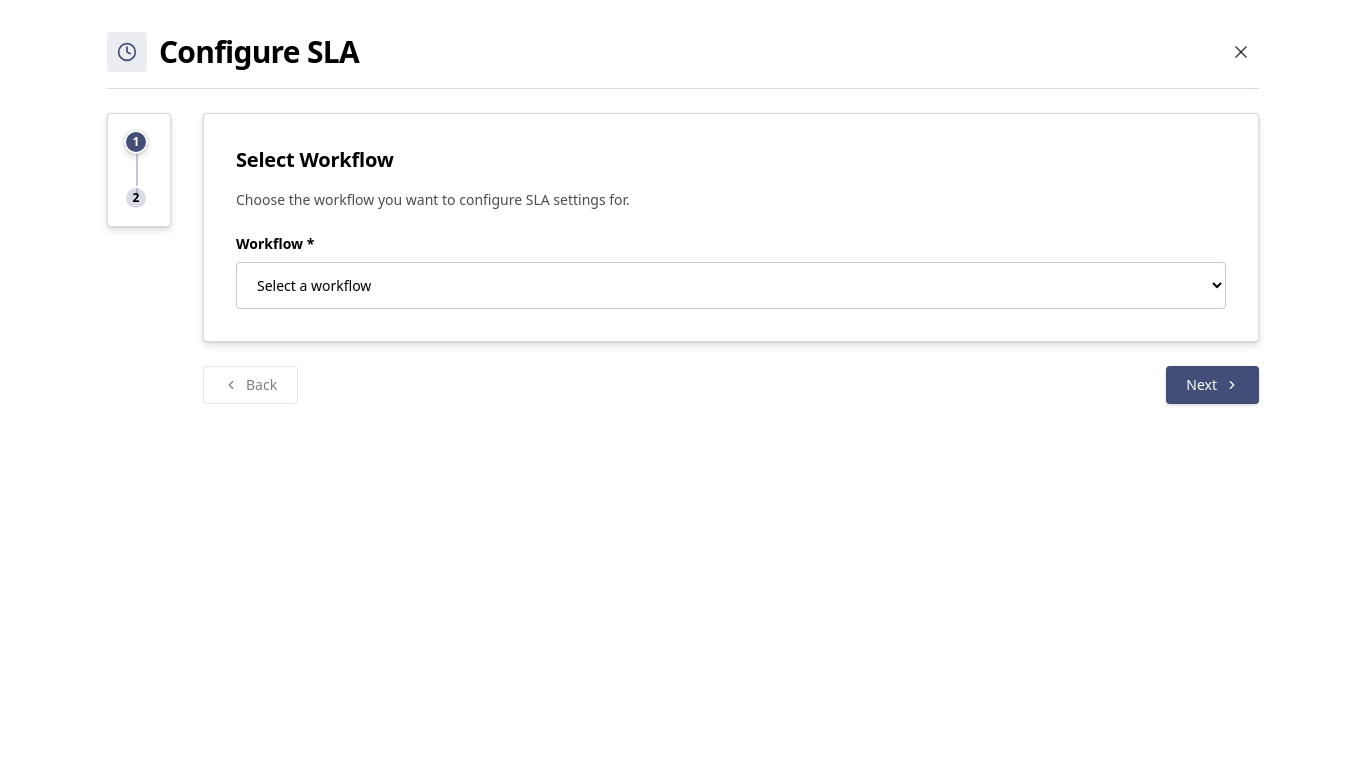
Test: SLAConfigure › loads existing config when workflow selected
Select "WF 1" in the dropdown. click: (731, 286)
box: [236, 262, 1226, 309]
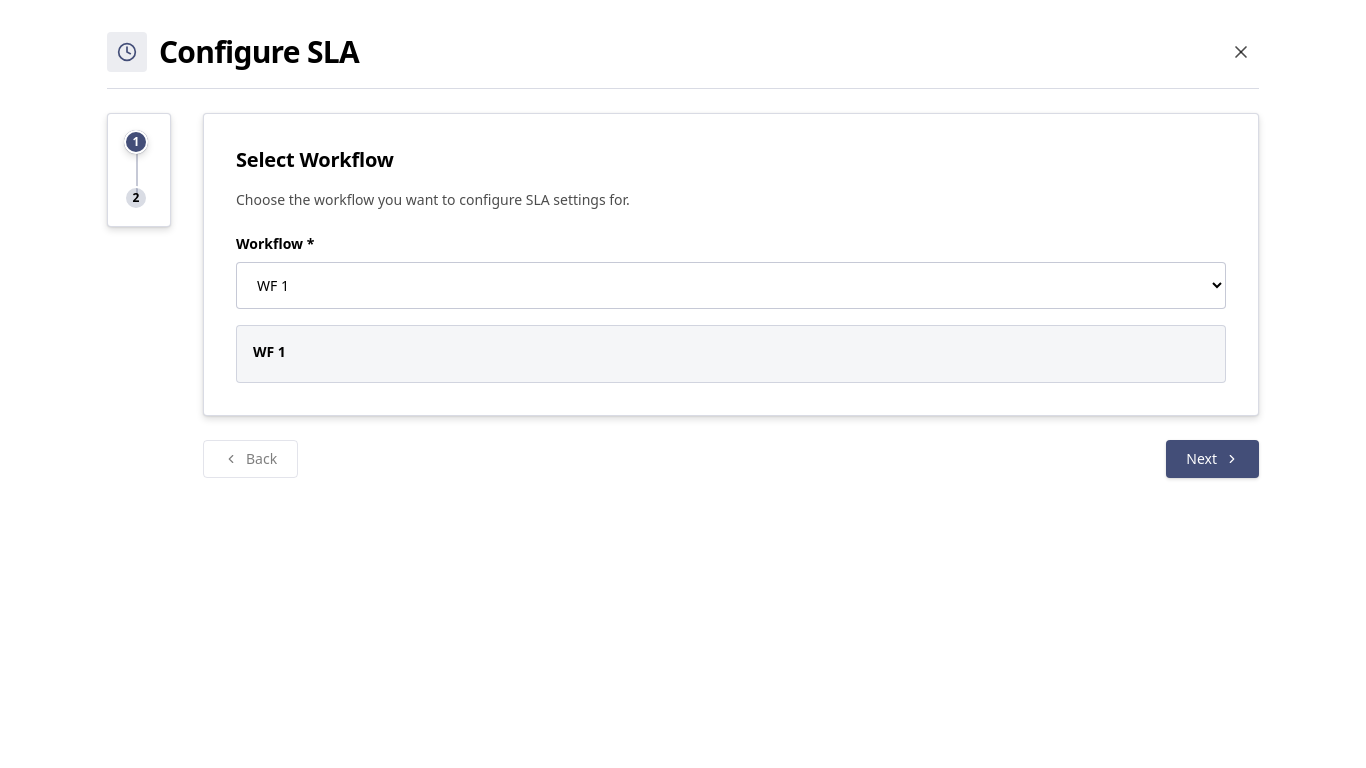
Click the button "Next". click: (1213, 459)
box: [1166, 440, 1259, 478]
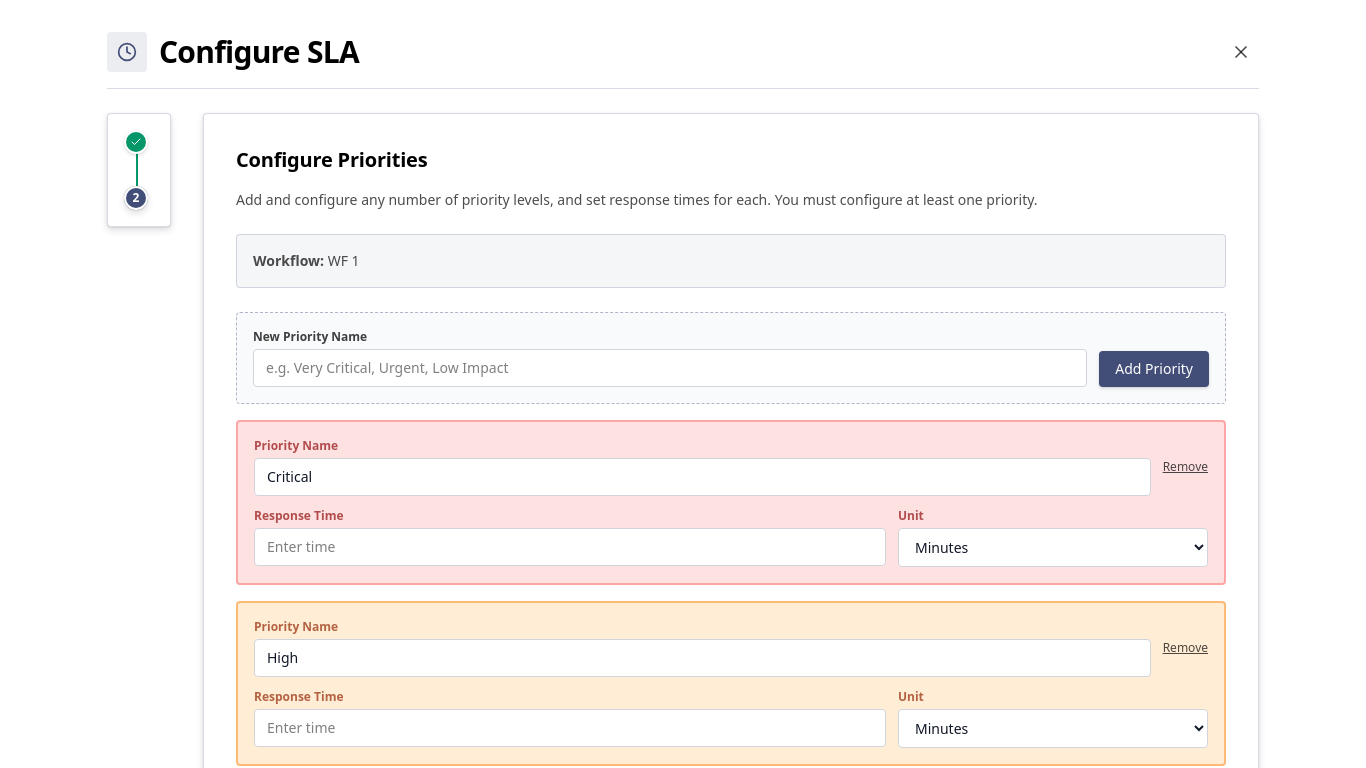
Now the heading "Configure Priorities" is shown, box [236, 146, 428, 173]
